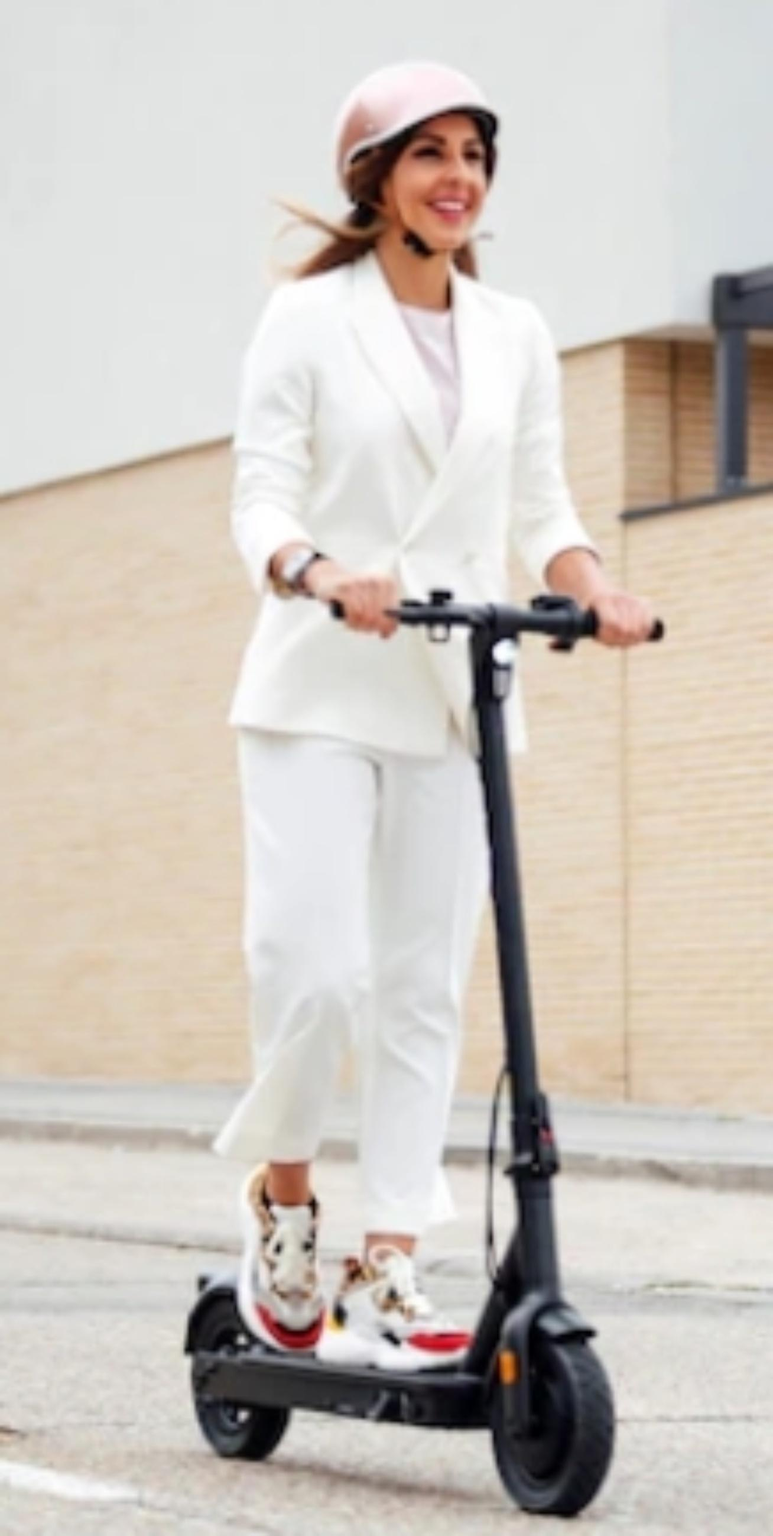helmet: (306, 74, 510, 287)
human: (224, 67, 659, 1362)
kickboard: (176, 1280, 628, 1525)
